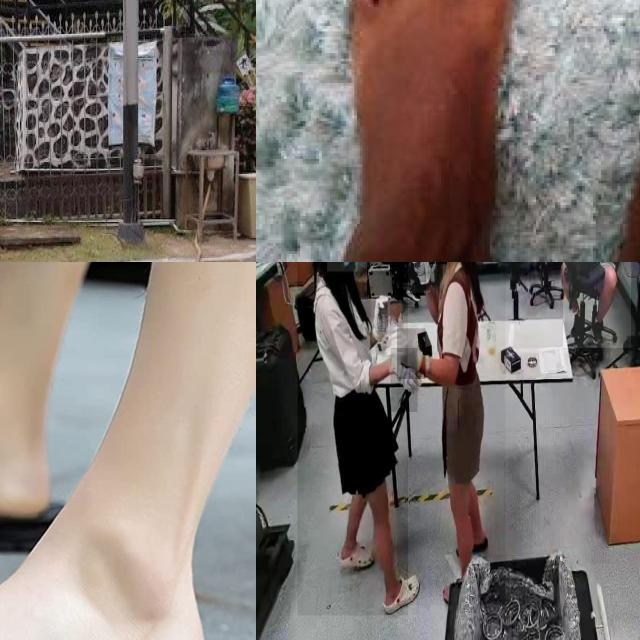Barefoots: (344, 0, 511, 262)
Sandals: (0, 553, 246, 640)
hand_glove: (390, 348, 418, 412), (397, 328, 425, 379), (372, 299, 390, 346), (406, 262, 430, 292)
person: (297, 262, 408, 616), (397, 262, 506, 606), (562, 262, 631, 348), (367, 262, 426, 295)
